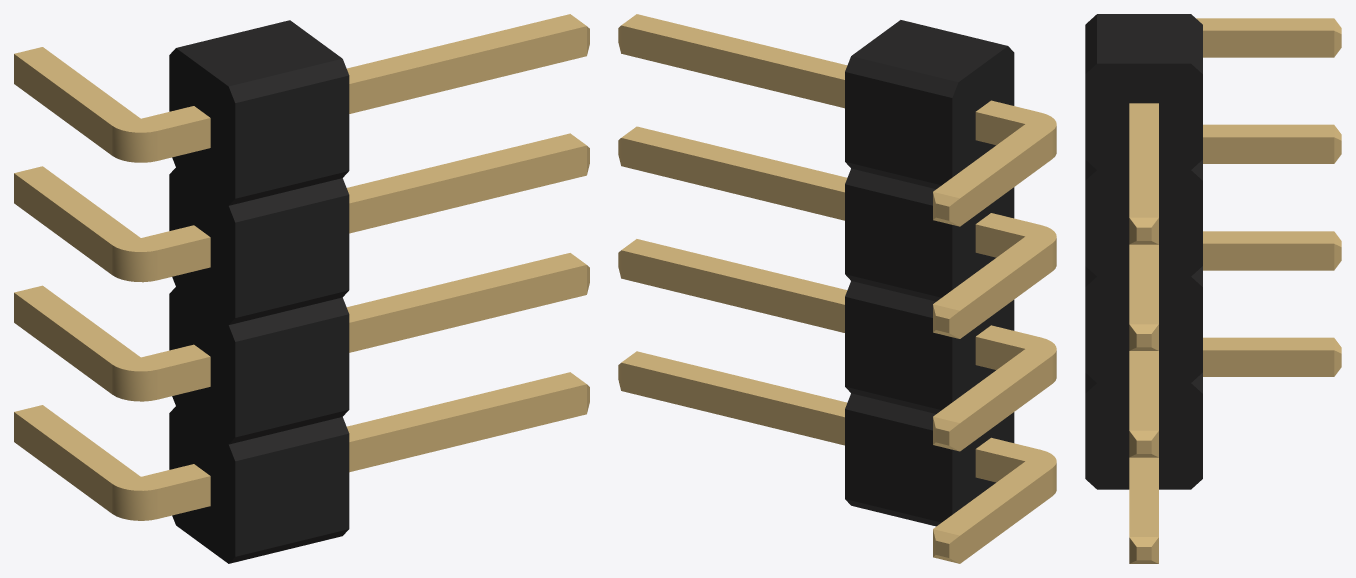
File: header-1x04-bent.glb
3 renders of one model, left to right at view 1: azimuth 30°, elevation 25°; view 2: azimuth 150°, elevation 25°; view 3: azimuth 270°, elevation 25°, orthographic. The views are drawn at different scales.
Parts seen in each view (by area): view 1: PIN-02 (×9), IC-BODY-EPOXY-04; view 2: PIN-02 (×5), IC-BODY-EPOXY-04; view 3: IC-BODY-EPOXY-04, PIN-02 (×5).
Part boxes in pixels (<box>): PIN-02 (×9): <box>14,14,589,520</box>; IC-BODY-EPOXY-04: <box>169,20,349,563</box>; PIN-02 (×5): <box>618,14,1056,563</box>; IC-BODY-EPOXY-04: <box>845,20,1014,526</box>; IC-BODY-EPOXY-04: <box>1085,14,1202,489</box>; PIN-02 (×5): <box>1129,18,1341,563</box>.
Size of the model in its own units: 10.36 by 10.16 by 5.54.
